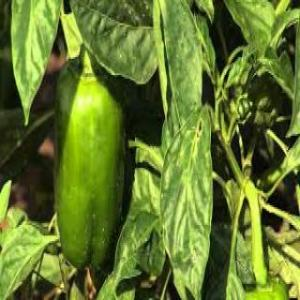bell_pepper: (47, 57, 126, 283)
